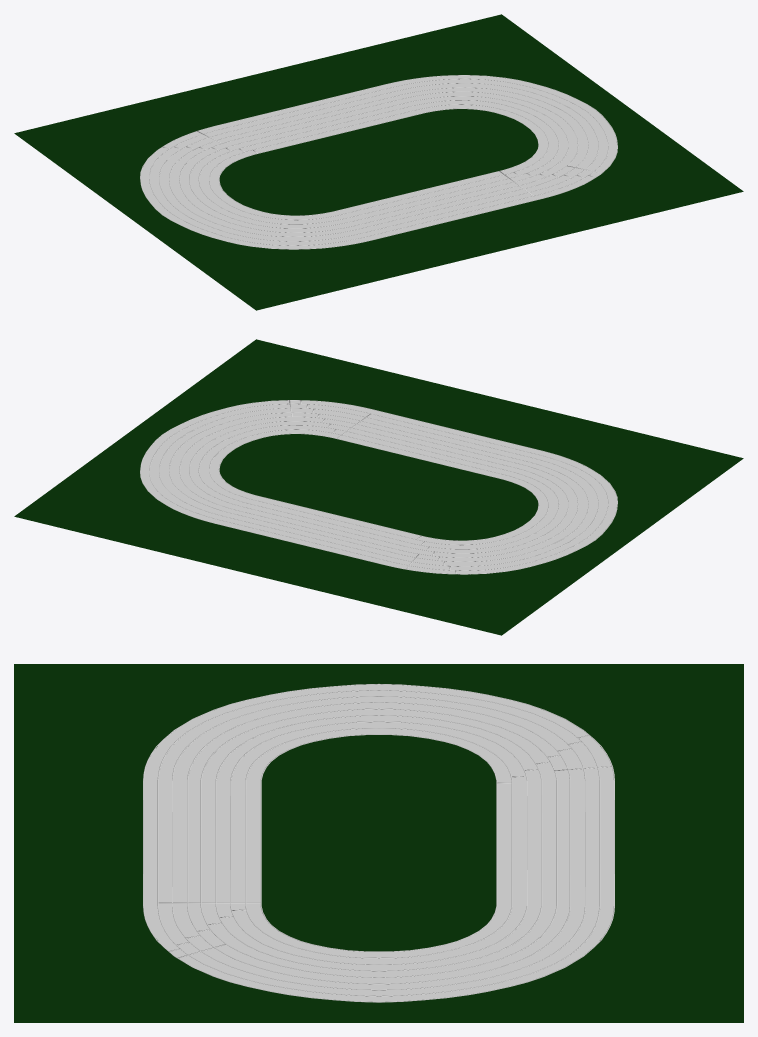
The model's file is pista_atletismo2.fbx.
3 views of the same model, one above another, from view 1: azimuth 30°, elevation 25°; view 2: azimuth 150°, elevation 25°; view 3: azimuth 270°, elevation 25° (orthographic). The views are drawn at different scales.
Parts seen in each view (by area): view 1: outArea, lines.001, lines; view 2: outArea, lines.001, lines; view 3: outArea, lines.001, lines.
Boxes of the visible parts, left/top/right/bottom form: outArea: left=14, top=14, right=743, bottom=310; lines.001: left=140, top=75, right=617, bottom=249; lines: left=140, top=75, right=617, bottom=249; outArea: left=14, top=339, right=743, bottom=635; lines.001: left=140, top=400, right=617, bottom=574; lines: left=140, top=400, right=617, bottom=574; outArea: left=14, top=664, right=743, bottom=1022; lines.001: left=144, top=684, right=613, bottom=1001; lines: left=143, top=683, right=614, bottom=1002.
Size of the model in its own units: 35.05 by 0.0158 by 30.14.
